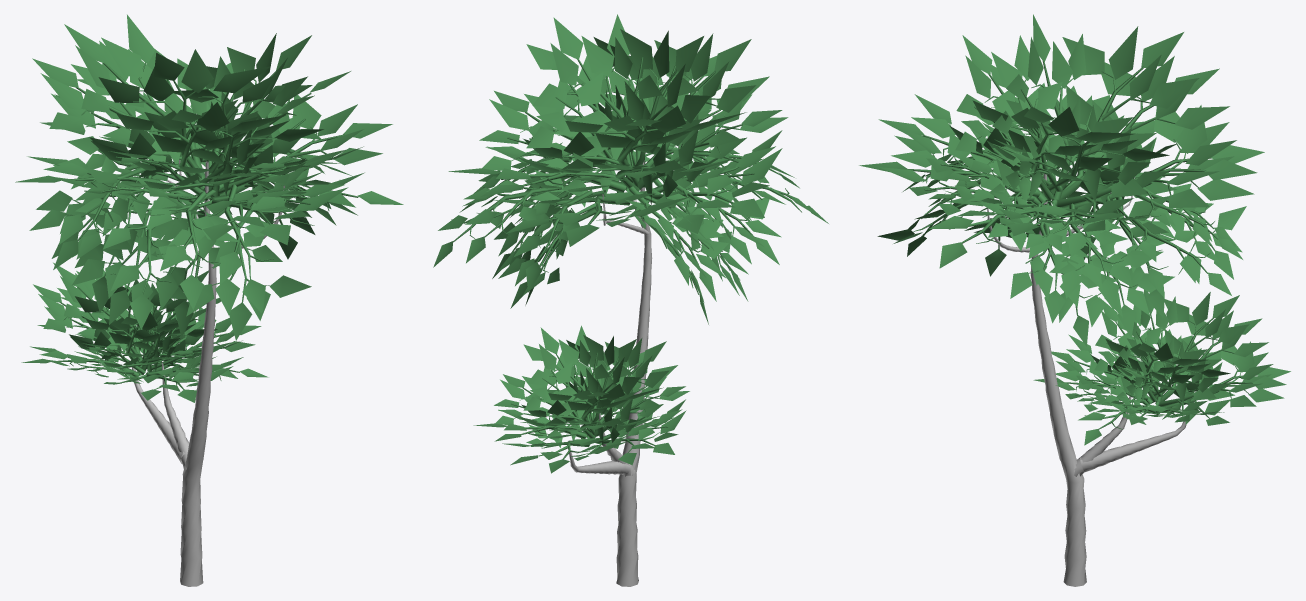
Rendered from tree3.fbx.
3 renders of one model, left to right at view 1: azimuth 30°, elevation 25°; view 2: azimuth 150°, elevation 25°; view 3: azimuth 270°, elevation 25°, orthographic. The views are drawn at different scales.
Parts seen in each view (by area): view 1: tree2; view 2: tree2; view 3: tree2.
Boxes of the visible parts, <box> form: tree2: <box>15,14,403,586</box>; tree2: <box>433,14,828,586</box>; tree2: <box>859,14,1290,586</box>.
Size of the model in its own units: 11.18 by 18.17 by 13.18.
